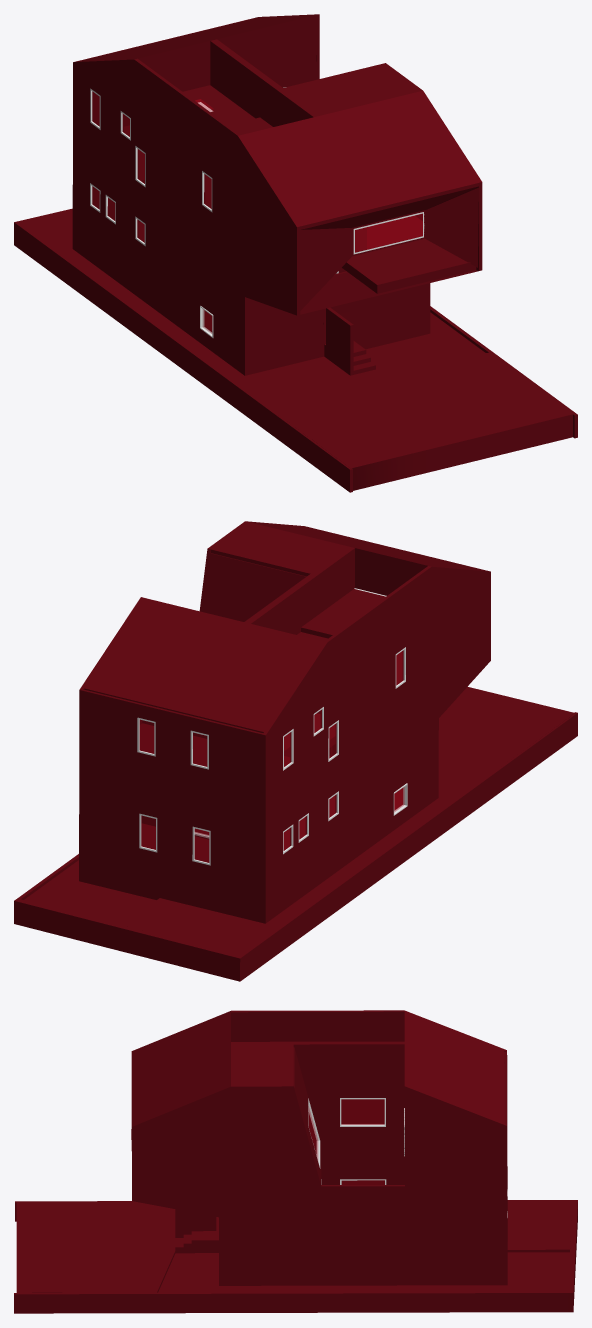
Rendered from asset.glb.
3 views of the same model, one above another, from view 1: azimuth 30°, elevation 25°; view 2: azimuth 150°, elevation 25°; view 3: azimuth 270°, elevation 25° (orthographic). The views are drawn at different scales.
Visible parts, largest first — view 1: 3D_FACADE_BLACK, 3D_FIRST FLOOR, 3D_SURROUNDING CONTEXT, 3D_FLOOR, 3D_FACADE_REFLECTIVE, 3D_WALL, 3D_WINDOW FRAMES, 3D_FACADE_REFLECTIVE.001, 3D_TURF, 3d_Glass, Windows frames, 3D_FACADE_WHITE; view 2: 3D_FACADE_BLACK, 3D_FIRST FLOOR, 3D_SURROUNDING CONTEXT, 3D_FACADE_WHITE, 3D_TURF, 3D_FLOOR, 3D_WINDOW FRAMES, 3d_Glass, Windows frames, 3D_WALL; view 3: 3D_FACADE_BLACK, 3D_FIRST FLOOR, 3D_SURROUNDING CONTEXT, 3D_FACADE_WHITE, 3D_TURF, 3d_Glass, Windows frames.
Boxes of the visible parts, x1=… form: 3D_FACADE_BLACK: x1=72, y1=14, x2=482, y2=363; 3D_FIRST FLOOR: x1=31, y1=212, x2=572, y2=490; 3D_SURROUNDING CONTEXT: x1=14, y1=208, x2=577, y2=492; 3D_FLOOR: x1=124, y1=85, x2=476, y2=293; 3D_FACADE_REFLECTIVE: x1=300, y1=186, x2=478, y2=314; 3D_WALL: x1=141, y1=18, x2=316, y2=91; 3D_WINDOW FRAMES: x1=210, y1=44, x2=309, y2=126; 3D_FACADE_REFLECTIVE.001: x1=425, y1=187, x2=478, y2=267; 3D_TURF: x1=366, y1=312, x2=485, y2=369; 3d_Glass: x1=92, y1=92, x2=422, y2=251; Windows frames: x1=90, y1=87, x2=425, y2=337; 3D_FACADE_WHITE: x1=210, y1=39, x2=345, y2=272; 3D_FACADE_BLACK: x1=79, y1=521, x2=490, y2=911; 3D_FIRST FLOOR: x1=79, y1=686, x2=574, y2=950; 3D_SURROUNDING CONTEXT: x1=14, y1=712, x2=577, y2=981; 3D_FACADE_WHITE: x1=203, y1=553, x2=317, y2=756; 3D_TURF: x1=24, y1=860, x2=156, y2=924; 3D_FLOOR: x1=139, y1=588, x2=386, y2=766; 3D_WINDOW FRAMES: x1=254, y1=552, x2=354, y2=634; 3d_Glass: x1=140, y1=650, x2=403, y2=862; Windows frames: x1=137, y1=647, x2=407, y2=865; 3D_WALL: x1=142, y1=551, x2=424, y2=839; 3D_FACADE_BLACK: x1=131, y1=1010, x2=507, y2=1272; 3D_FIRST FLOOR: x1=16, y1=1201, x2=571, y2=1292; 3D_SURROUNDING CONTEXT: x1=14, y1=1200, x2=577, y2=1313; 3D_FACADE_WHITE: x1=293, y1=1041, x2=404, y2=1184; 3D_TURF: x1=158, y1=1252, x2=569, y2=1292; 3d_Glass: x1=309, y1=1099, x2=384, y2=1184; Windows frames: x1=308, y1=1098, x2=507, y2=1217.
Size of the model in its own units: 22.3 by 24.26 by 57.14.
